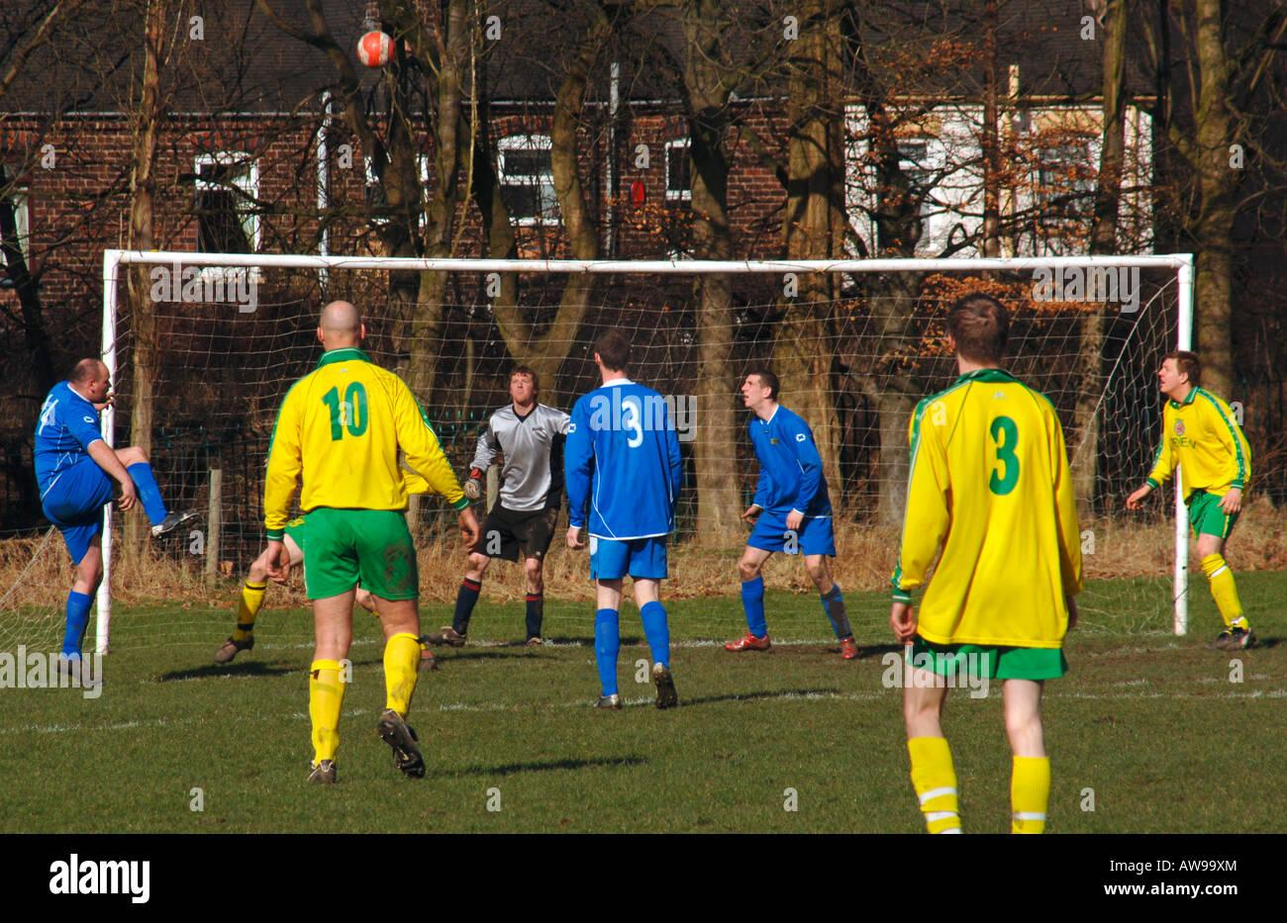ballon_football: (354, 31, 396, 69)
